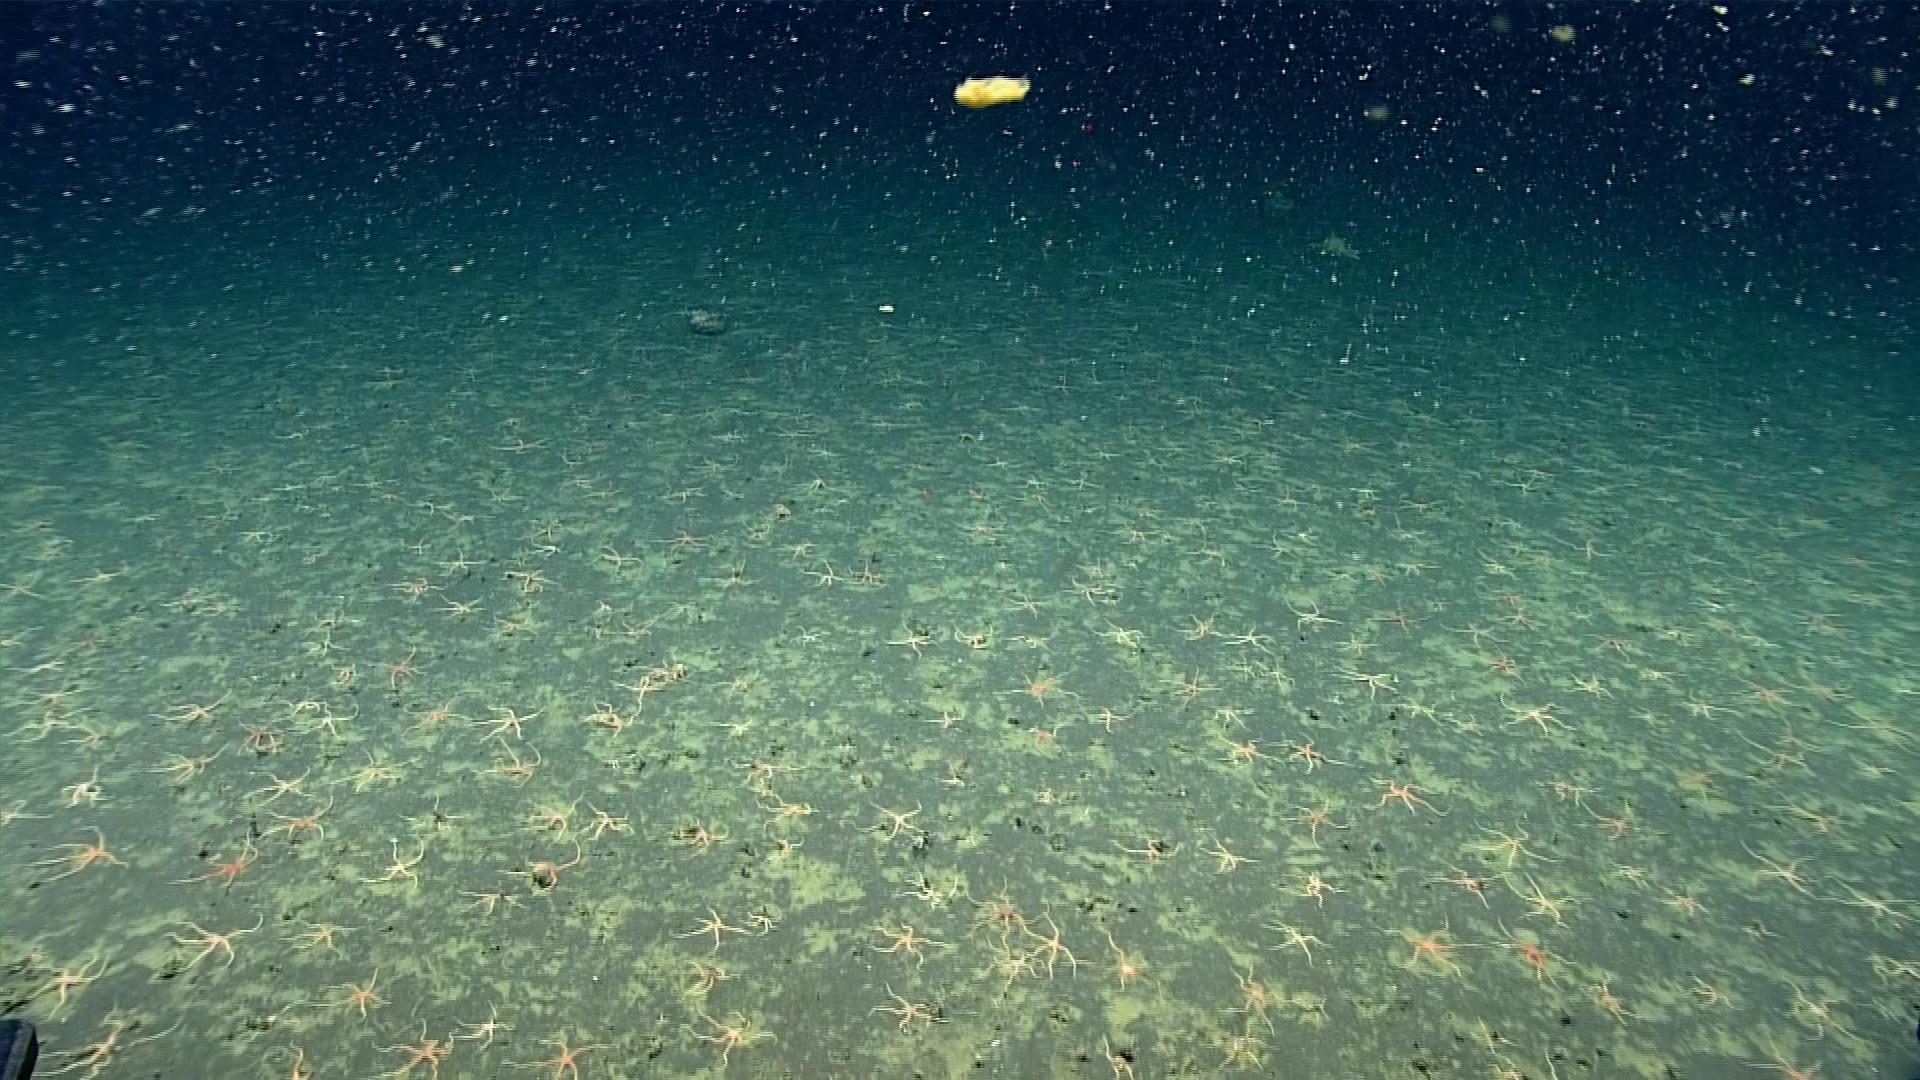brittle_sea_star: (1762, 961, 1869, 1048), (34, 1019, 182, 1079), (1370, 911, 1480, 977), (17, 951, 112, 1025), (162, 910, 264, 976), (1491, 911, 1575, 990), (683, 1000, 777, 1069), (21, 827, 128, 882), (165, 825, 256, 890), (1461, 815, 1563, 870), (1820, 873, 1919, 930), (1499, 865, 1581, 931), (963, 876, 1042, 940), (1735, 836, 1816, 899), (371, 1019, 454, 1079), (864, 920, 955, 972), (1422, 853, 1506, 907), (310, 967, 390, 1023), (667, 903, 756, 955), (1830, 704, 1919, 756), (1361, 771, 1449, 822), (508, 1035, 608, 1079), (1218, 961, 1276, 1036), (330, 748, 422, 794), (865, 981, 952, 1030), (1734, 1033, 1825, 1079), (1576, 798, 1665, 844), (1021, 910, 1077, 981), (502, 840, 582, 890), (252, 795, 332, 844), (980, 931, 1044, 990), (1095, 923, 1151, 990), (862, 798, 930, 852), (1497, 691, 1577, 735), (1261, 916, 1332, 965), (1735, 729, 1809, 775), (149, 742, 229, 785), (1280, 798, 1349, 847), (450, 1001, 514, 1052), (146, 687, 231, 725), (1762, 794, 1838, 836), (281, 916, 355, 960), (360, 837, 423, 887), (1215, 731, 1286, 774), (477, 744, 546, 789), (720, 752, 803, 789), (398, 696, 473, 736), (243, 766, 311, 808), (396, 794, 464, 836), (0, 707, 73, 746), (1590, 971, 1643, 1025), (898, 865, 959, 911), (1007, 670, 1081, 707), (525, 794, 585, 839), (475, 704, 543, 744), (1329, 663, 1399, 702), (59, 762, 115, 810), (750, 789, 819, 827), (1196, 832, 1262, 872), (456, 884, 529, 919), (1217, 1030, 1276, 1073), (1286, 733, 1344, 775), (682, 956, 738, 998), (430, 542, 496, 578), (1283, 596, 1342, 634), (645, 526, 708, 562), (294, 705, 357, 740), (885, 618, 938, 659), (1158, 666, 1222, 699), (381, 642, 426, 690), (1109, 836, 1184, 864), (1655, 882, 1710, 919), (385, 575, 448, 607), (585, 799, 633, 841), (1364, 599, 1422, 633), (1439, 618, 1507, 647), (1675, 764, 1725, 803), (1581, 630, 1643, 662), (1083, 616, 1142, 649), (1168, 613, 1236, 642), (584, 700, 637, 737), (1296, 870, 1349, 907), (1685, 973, 1735, 1011), (1770, 719, 1822, 754), (1536, 774, 1590, 808), (588, 543, 644, 576), (1383, 510, 1432, 547), (434, 592, 488, 624), (491, 604, 538, 640), (1098, 1031, 1134, 1079), (1680, 690, 1735, 720), (1391, 694, 1444, 725), (948, 513, 1007, 541), (1222, 622, 1276, 653), (1867, 951, 1919, 982), (1743, 678, 1791, 712), (628, 657, 688, 683), (1799, 671, 1851, 702), (607, 675, 663, 703), (500, 564, 556, 592), (1280, 992, 1332, 1022), (1564, 669, 1613, 700), (0, 799, 53, 828), (1097, 520, 1158, 545), (1605, 858, 1652, 890), (678, 820, 729, 849), (1262, 484, 1313, 513), (1721, 622, 1780, 647), (70, 564, 123, 592), (1803, 615, 1855, 642), (521, 533, 571, 562), (303, 629, 351, 659), (281, 1038, 315, 1079), (1007, 483, 1058, 510), (0, 568, 44, 600), (1026, 724, 1065, 758), (1184, 535, 1225, 568), (1476, 547, 1518, 579), (1258, 529, 1302, 559), (236, 720, 277, 752), (1059, 575, 1101, 605), (949, 618, 993, 647), (1258, 658, 1296, 691), (1642, 686, 1689, 712), (1001, 633, 1056, 655), (1089, 703, 1130, 733), (719, 555, 754, 589), (1331, 633, 1385, 655), (740, 906, 779, 936), (802, 558, 843, 587), (1004, 592, 1048, 618), (24, 687, 79, 708), (1, 659, 62, 678), (848, 559, 886, 588), (57, 728, 108, 749), (160, 587, 204, 611), (311, 608, 361, 629), (1447, 709, 1486, 736), (793, 622, 831, 649), (607, 620, 651, 642), (443, 509, 497, 527), (1656, 624, 1697, 647), (767, 829, 802, 857), (1060, 468, 1100, 492), (491, 436, 545, 454), (1635, 665, 1685, 683), (1629, 704, 1669, 727), (1212, 707, 1251, 729), (1501, 608, 1540, 630), (326, 659, 359, 686), (1204, 448, 1247, 468), (1356, 562, 1391, 585), (712, 713, 752, 735), (1225, 653, 1257, 679), (1684, 546, 1724, 567), (1393, 559, 1440, 576), (761, 496, 795, 520), (1071, 553, 1105, 576), (195, 599, 233, 620), (69, 632, 107, 653), (1398, 495, 1441, 513), (1485, 650, 1516, 675), (691, 456, 733, 475), (742, 522, 773, 547), (806, 443, 847, 462), (936, 758, 964, 785), (1564, 603, 1594, 626), (405, 497, 452, 512), (662, 485, 705, 501), (115, 510, 162, 525), (713, 674, 748, 694), (924, 711, 964, 728), (1499, 479, 1538, 496), (783, 538, 816, 558), (798, 477, 836, 493), (591, 597, 617, 620), (233, 529, 268, 546), (284, 696, 327, 709), (405, 535, 433, 554), (585, 621, 609, 641), (527, 522, 558, 537), (563, 476, 596, 488), (986, 455, 1007, 469)
